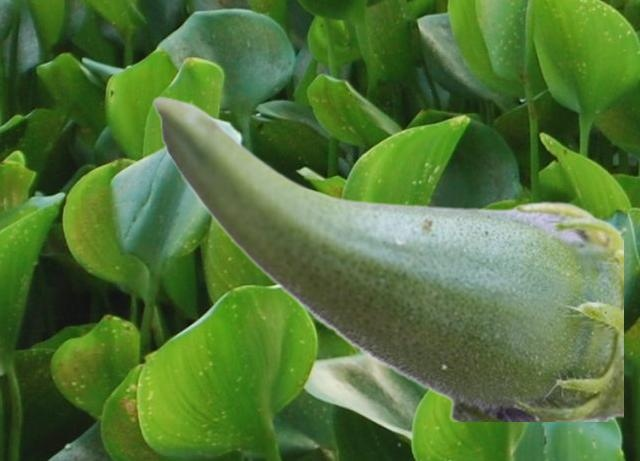okra: (151, 95, 622, 420)
